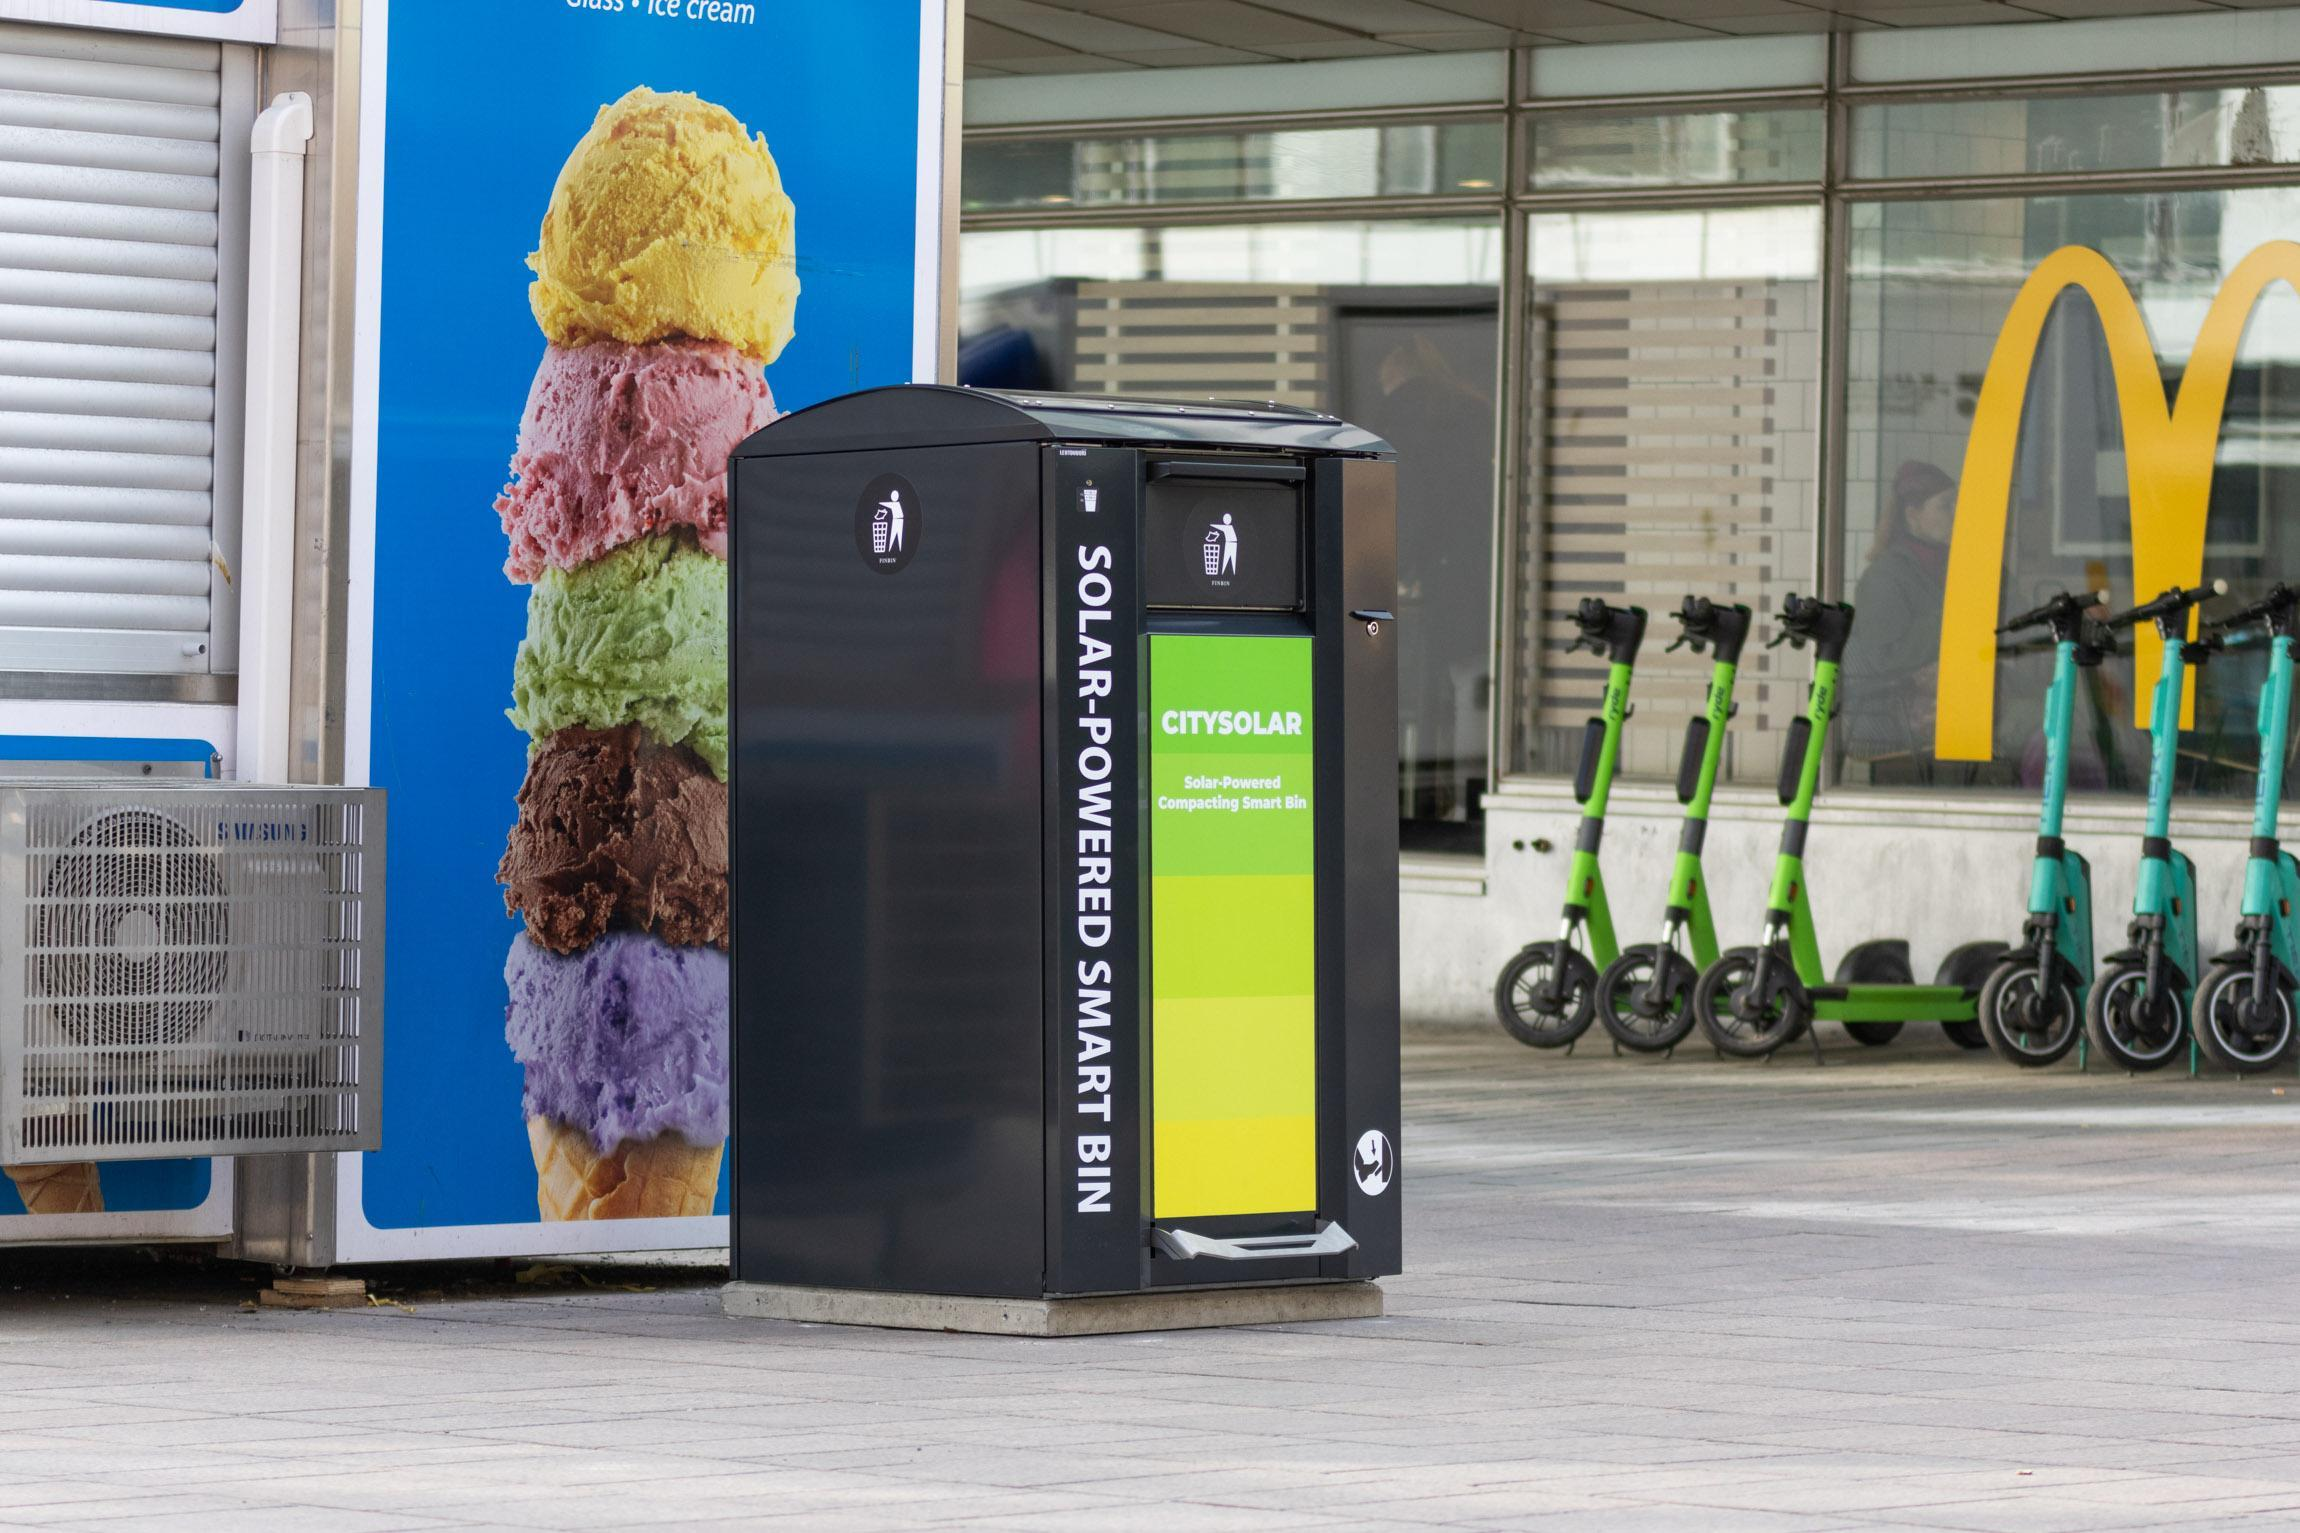trash bin: (705, 370, 1435, 1355)
